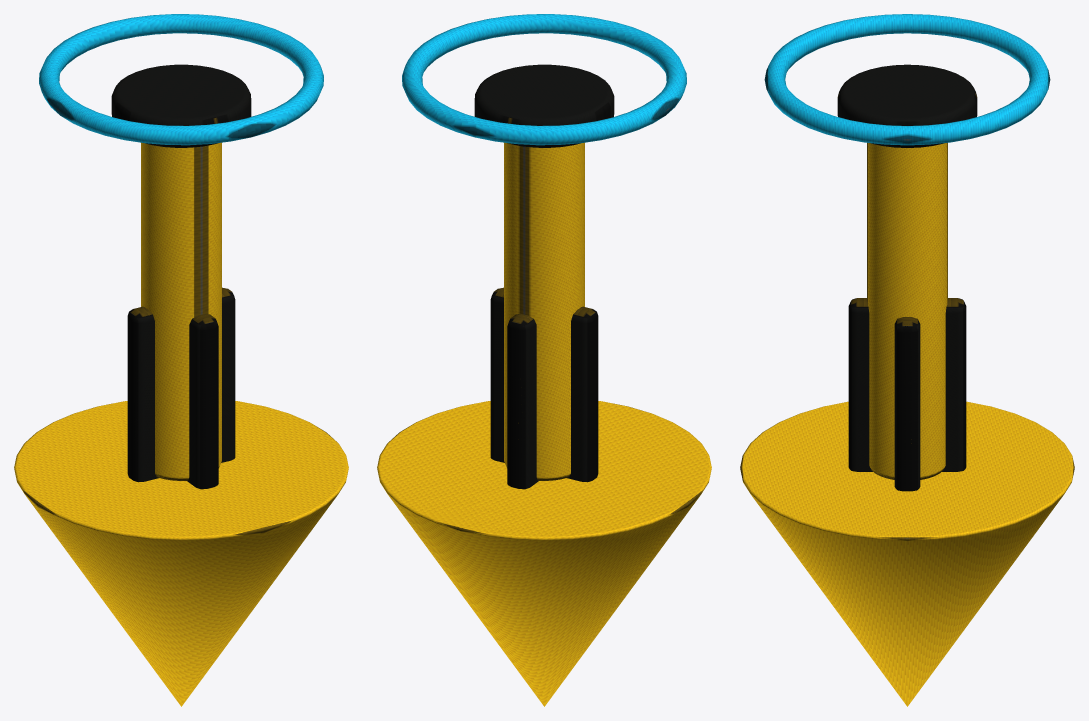
Rendered from task_hint_arrow_uv.fbx.
3 views of the same model, side by side, from view 1: azimuth 30°, elevation 25°; view 2: azimuth 150°, elevation 25°; view 3: azimuth 270°, elevation 25° (orthographic).
Parts seen in each view (by area): view 1: Arrow_Heavy_Down_Head, Arrow_Yellow_Shaft, Arrow_Cyan_Pulse_Ring, Arrow_Dark_Collar, Arrow_Dark_Fin_0, Arrow_Dark_Fin_1, Arrow_Dark_Fin_3; view 2: Arrow_Heavy_Down_Head, Arrow_Yellow_Shaft, Arrow_Cyan_Pulse_Ring, Arrow_Dark_Collar, Arrow_Dark_Fin_0, Arrow_Dark_Fin_3, Arrow_Dark_Fin_1, Arrow_Dark_Fin_2; view 3: Arrow_Heavy_Down_Head, Arrow_Yellow_Shaft, Arrow_Cyan_Pulse_Ring, Arrow_Dark_Collar, Arrow_Dark_Fin_0, Arrow_Dark_Fin_2, Arrow_Dark_Fin_1, Arrow_Dark_Fin_3.
Boxes of the visible parts, x1=… form: Arrow_Heavy_Down_Head: x1=14, y1=401, x2=348, y2=706; Arrow_Yellow_Shaft: x1=141, y1=142, x2=221, y2=480; Arrow_Cyan_Pulse_Ring: x1=39, y1=14, x2=323, y2=145; Arrow_Dark_Collar: x1=111, y1=64, x2=251, y2=147; Arrow_Dark_Fin_0: x1=187, y1=313, x2=218, y2=489; Arrow_Dark_Fin_1: x1=128, y1=287, x2=232, y2=482; Arrow_Dark_Fin_3: x1=127, y1=288, x2=235, y2=480; Arrow_Heavy_Down_Head: x1=377, y1=401, x2=711, y2=706; Arrow_Yellow_Shaft: x1=504, y1=142, x2=584, y2=480; Arrow_Cyan_Pulse_Ring: x1=402, y1=14, x2=686, y2=145; Arrow_Dark_Collar: x1=474, y1=64, x2=614, y2=147; Arrow_Dark_Fin_0: x1=507, y1=314, x2=538, y2=488; Arrow_Dark_Fin_3: x1=499, y1=287, x2=597, y2=482; Arrow_Dark_Fin_1: x1=490, y1=288, x2=598, y2=478; Arrow_Dark_Fin_2: x1=507, y1=313, x2=537, y2=489; Arrow_Heavy_Down_Head: x1=740, y1=401, x2=1074, y2=706; Arrow_Yellow_Shaft: x1=867, y1=143, x2=947, y2=479; Arrow_Cyan_Pulse_Ring: x1=764, y1=14, x2=1050, y2=145; Arrow_Dark_Collar: x1=837, y1=64, x2=977, y2=147; Arrow_Dark_Fin_0: x1=848, y1=298, x2=966, y2=471; Arrow_Dark_Fin_2: x1=848, y1=298, x2=965, y2=471; Arrow_Dark_Fin_1: x1=897, y1=317, x2=920, y2=491; Arrow_Dark_Fin_3: x1=894, y1=317, x2=917, y2=491.
Bounding box in the file's own units: 45.46 × 95.4 × 45.46.
1 material, 1 textured.
